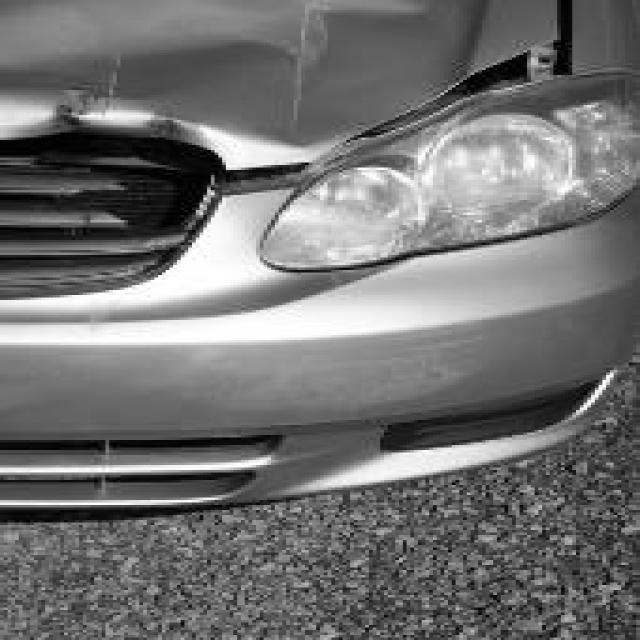Bonnet: (0, 0, 597, 333)
Bumper: (0, 290, 640, 524)
